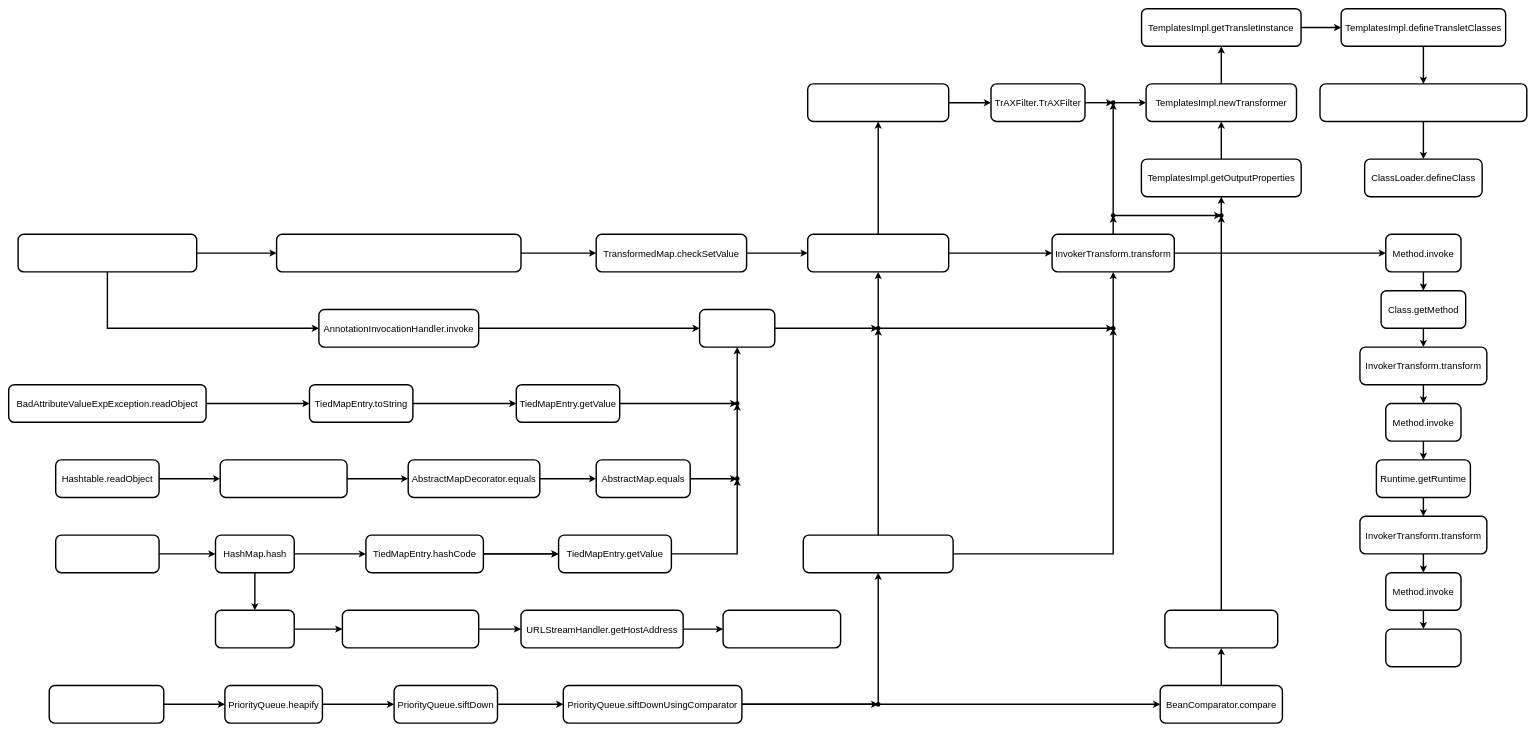
This 1535x732 diagram has some shape labels left out. Here are the shapes that lost their labels. From the top down, the centre of each, then its label:
At pixel 878 102: "InstantiateTransformer.transform".
At pixel 1423 102: "TemplatesImpl.TranletClassLoader.defineClass".
At pixel 107 252: "AnnotationInvocationHandler.readObject".
At pixel 398 252: "AbstractInputCheckedMapDecorator.MapEntry.setvalue".
At pixel 878 252: "ChainedTransformer.transform".
At pixel 737 328: "LazyMap.get".
At pixel 283 478: "Hashtable.reconstitutionPut".
At pixel 107 553: "HashMap.readObject".
At pixel 878 553: "TransformingComparator.compare".
At pixel 255 628: "URL.hashCode".
At pixel 410 628: "URLStreamHandler.hashCode".
At pixel 781 628: "InetAddress.getByName".
At pixel 1221 628: "PropertyUtils.getProperty".
At pixel 1423 647: "Runtime.exec".
At pixel 106 704: "PriorityQueue.readObject".
